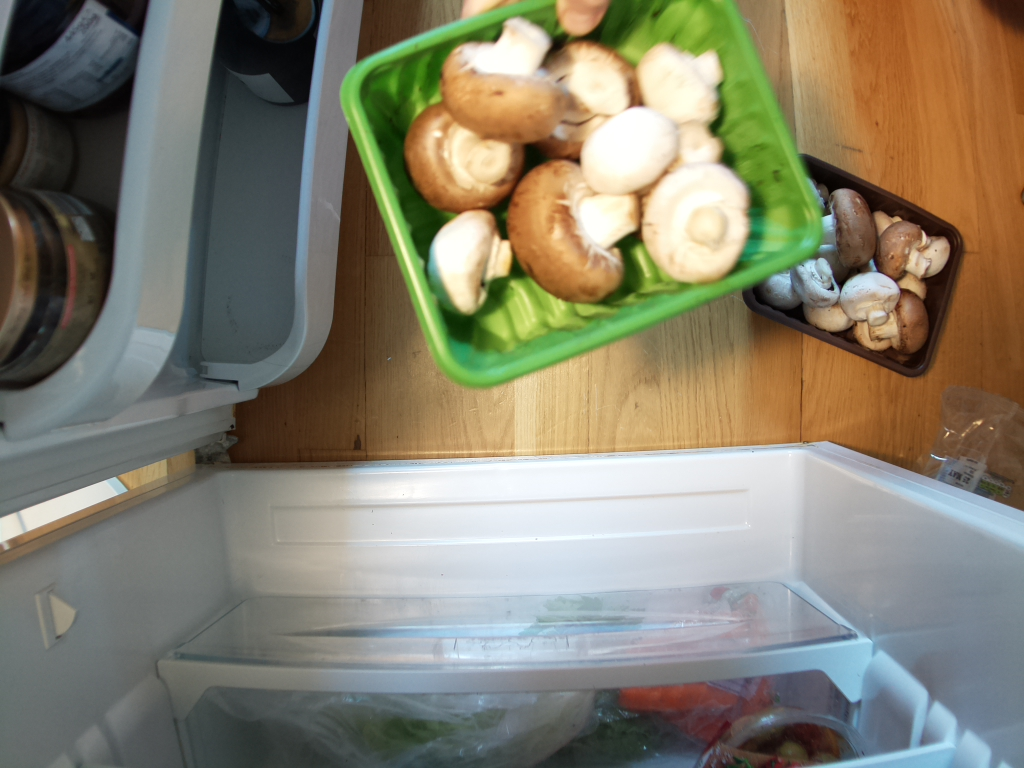mushrooms: (343, 1, 818, 390), (750, 160, 964, 367)
